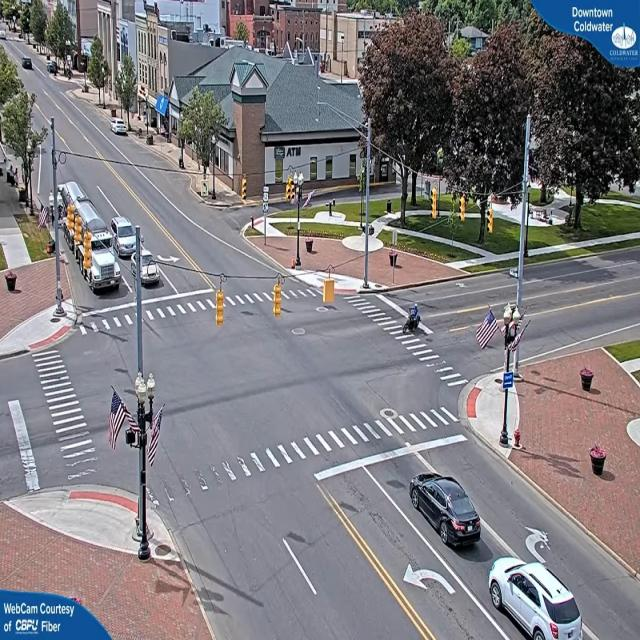car: (489, 561, 586, 640), (409, 476, 482, 551), (110, 218, 141, 257), (143, 258, 162, 287), (112, 120, 129, 136), (22, 57, 34, 71)
motorbike: (402, 305, 422, 336)
truck: (84, 244, 121, 293)
